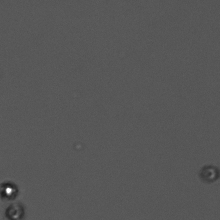Dead Cell: (197, 162, 220, 184), (3, 198, 26, 220)
Living Cell: (1, 177, 24, 202)
